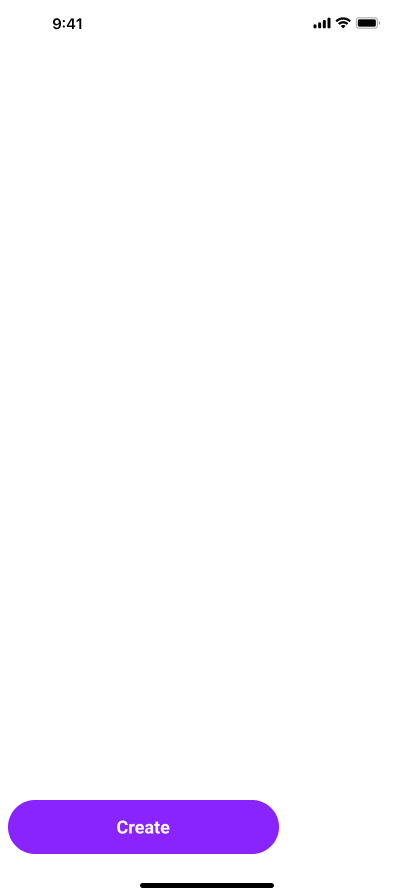Buttons: (8, 800, 279, 854)
Home Indicator: (0, 862, 414, 896)
Status Bar: (0, 0, 414, 44)
